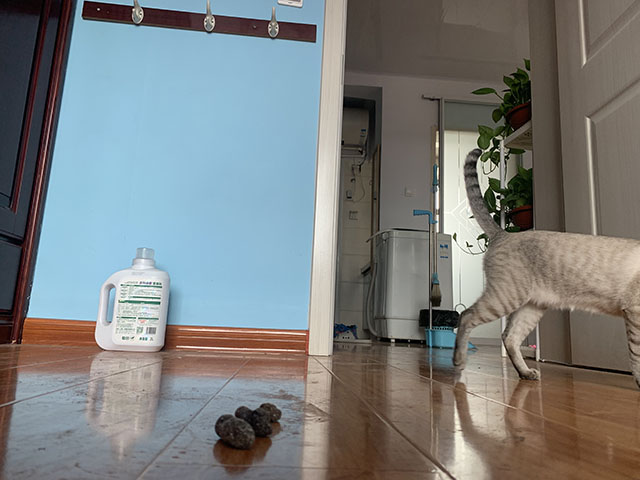feces: (214, 401, 284, 449)
slippers: (332, 329, 372, 345)
